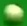white: (0, 0, 27, 26)
